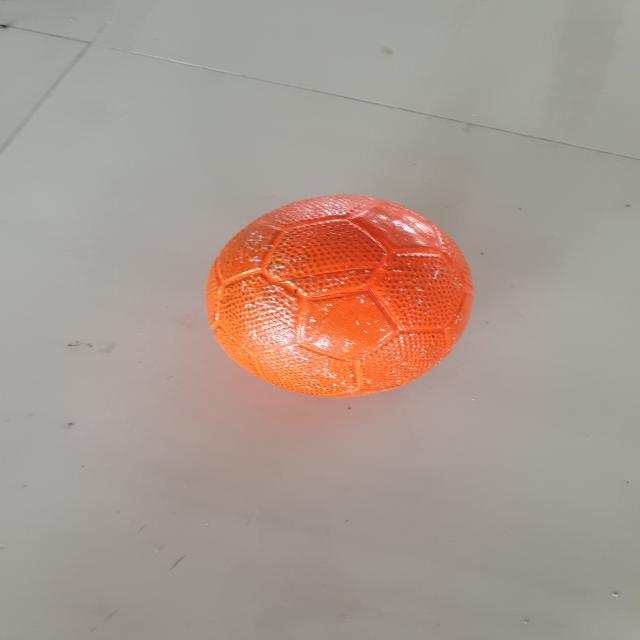bola: (193, 186, 484, 414)
